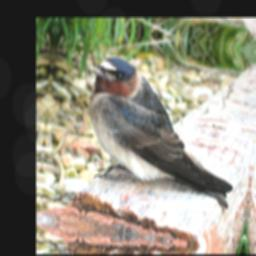Swallow: (74, 49, 247, 212)
